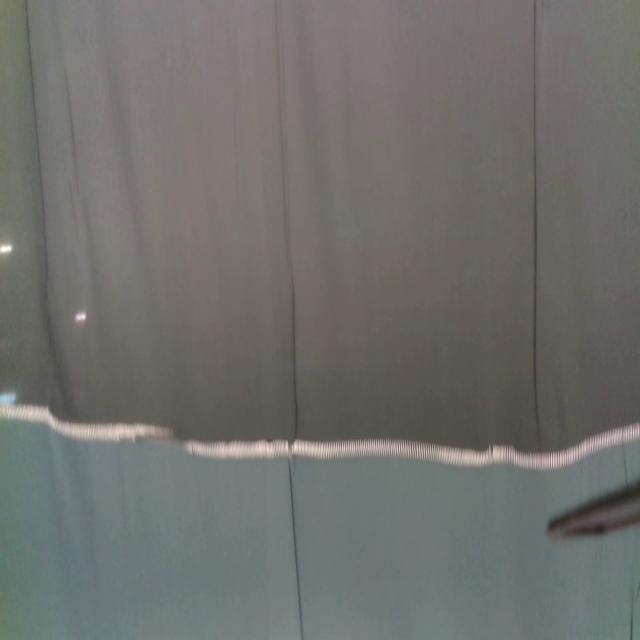crease: (272, 0, 298, 439), (24, 0, 51, 293), (529, 0, 544, 445), (288, 459, 304, 638), (65, 68, 80, 194), (627, 580, 636, 640)
